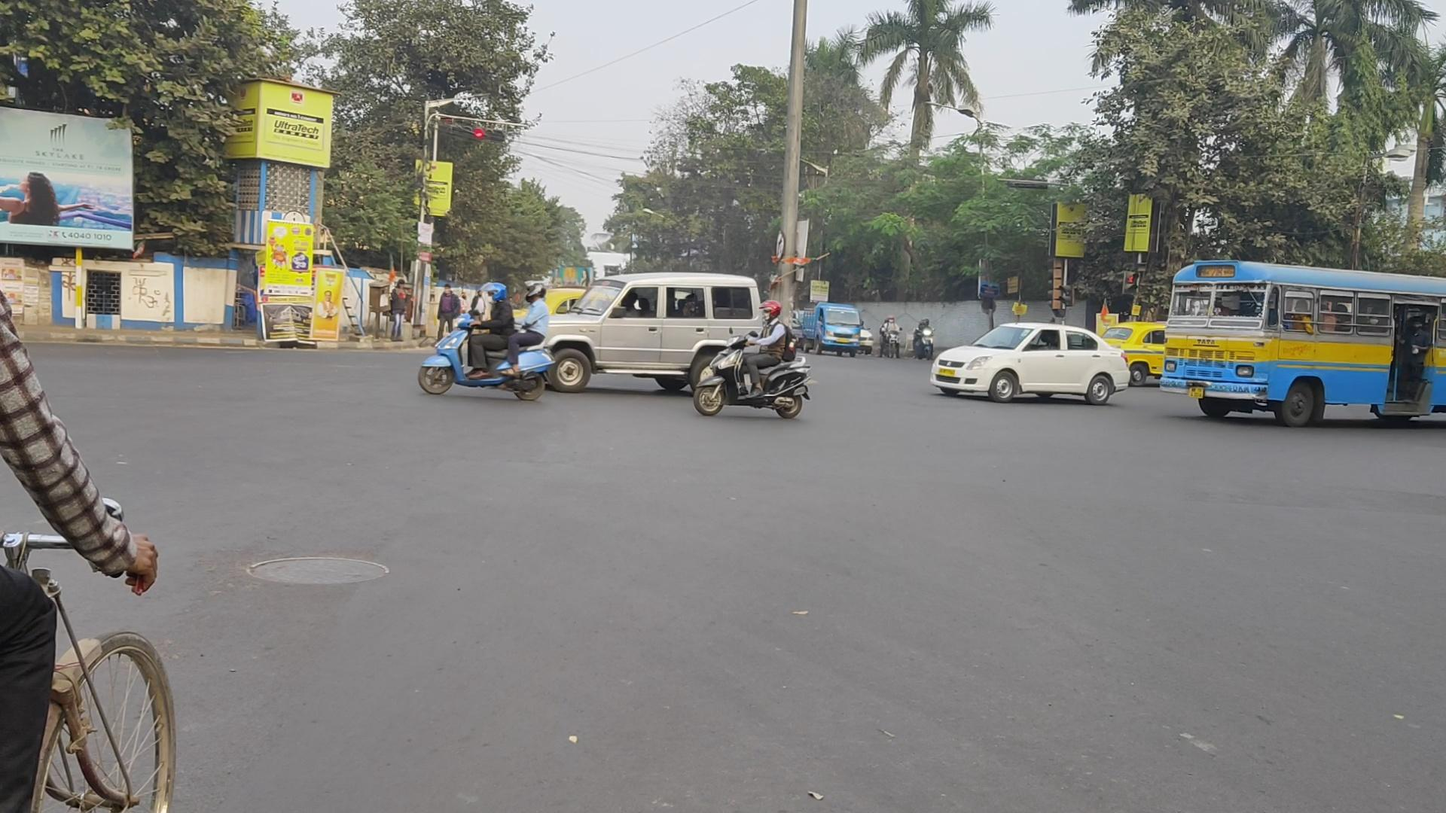Bus: (1160, 260, 1446, 428)
bike: (418, 280, 556, 400), (694, 300, 810, 419), (879, 315, 903, 359), (913, 318, 936, 361)
car: (511, 272, 764, 394), (931, 322, 1130, 405), (1094, 320, 1182, 387)
van: (802, 302, 864, 358)
